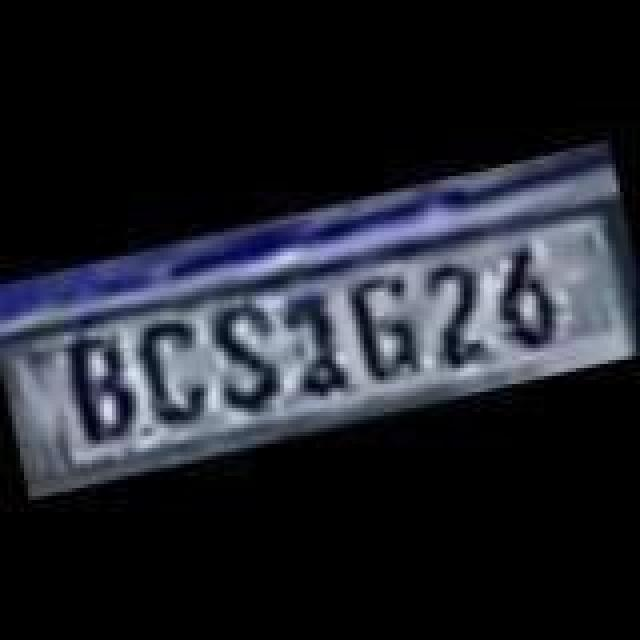1: (276, 282, 344, 402)
2: (422, 254, 502, 374)
6: (484, 232, 568, 352)
B: (60, 322, 144, 446)
C: (132, 316, 216, 432)
G: (342, 264, 430, 388)
S: (202, 288, 290, 412)
